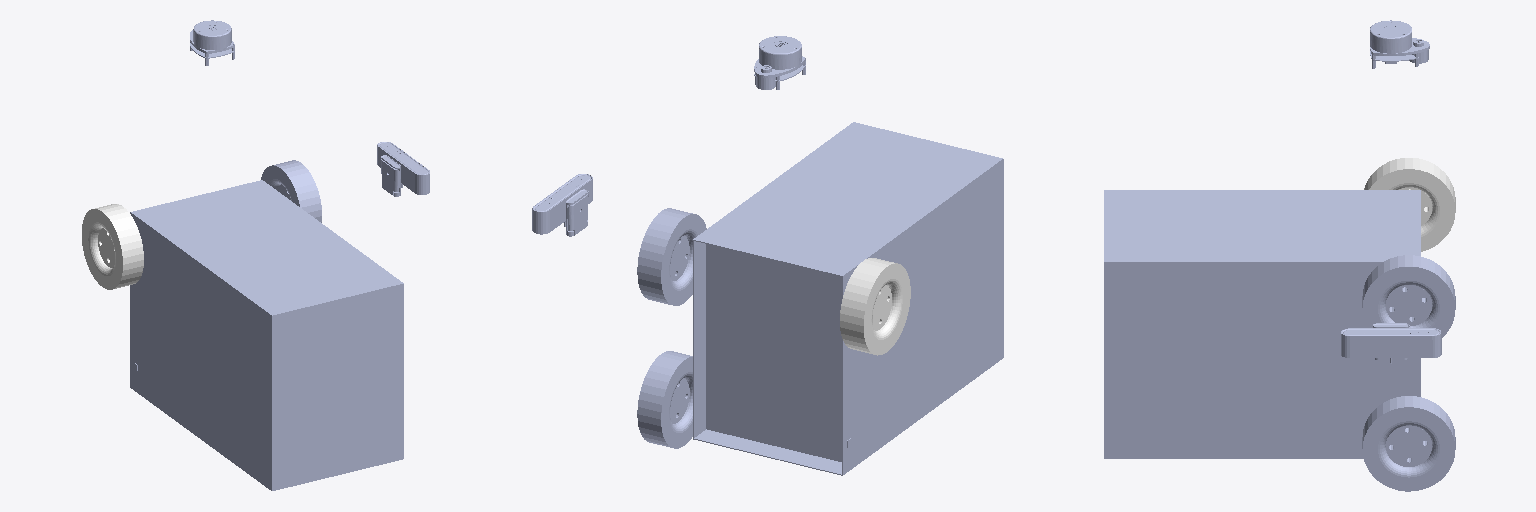
robot.urdf — my_urdf:
<?xml version="1.0" encoding="utf-8"?>
<!-- This URDF was automatically created by SolidWorks to URDF Exporter! Originally created by Stephen Brawner (brawner@gmail.com) 
     Commit Version: 1.6.0-4-g7f85cfe  Build Version: 1.6.7995.38578
     For more information, please see http://wiki.ros.org/sw_urdf_exporter -->
<robot
  name="my_urdf">
  <!-- Dummy link added to fix KDL inertia warning -->
  <link name="dummy_root">
    <inertial>
      <origin xyz="-0.000309087484210829 -0.231774623204699 0.00490440684986201" rpy="0 0 0" />
      <mass value="45.829187990473" />
      <inertia
        ixx="1.3247027895633"
        ixy="-0.00259104265884517"
        ixz="-0.00186845178508046"
        iyy="0.773725974976496"
        iyz="0.0411131993367175"
        izz="1.15594469557223" />
    </inertial>
  </link>

  <joint name="dummy_to_base" type="fixed">
    <parent link="dummy_root" />
    <child link="base_footprint" />
    <origin xyz="0 0 0" rpy="0 0 0" />
  </joint>
  <link
    name="base_footprint">
    <inertial>
      <origin
        xyz="-0.000309087484210829 -0.231774623204699 0.00490440684986201"
        rpy="0 0 0" />
      <mass
        value="45.829187990473" />
      <inertia
        ixx="1.3247027895633"
        ixy="-0.00259104265884517"
        ixz="-0.00186845178508046"
        iyy="0.773725974976496"
        iyz="0.0411131993367175"
        izz="1.15594469557223" />
    </inertial>
    <visual>

      <geometry>
        <mesh
          filename="package://my_urdf/meshes/base_footprint.STL" />
      </geometry>
      <material
        name="">
        <color
          rgba="0.792156862745098 0.819607843137255 0.933333333333333 1" />
      </material>
    </visual>
    <collision>
      <geometry>
        <mesh
          filename="package://my_urdf/meshes/base_footprint.STL" />
      </geometry>
    </collision>
  </link>
  <link
    name="front_right_link">
    <inertial>
      <origin
        xyz="-0.000233568800549525 0.00388215224949372 0.219535415875818"
        rpy="0 0 0" />
      <mass
        value="48.9383586991974" />
      <inertia
        ixx="1.56913843574981"
        ixy="-0.00154016843274957"
        ixz="0.00211023847469076"
        iyy="1.44343461593917"
        iyz="-0.0373053138883436"
        izz="0.925134371309634" />
    </inertial>
    <visual>

      <geometry>
        <mesh
          filename="package://my_urdf/meshes/back_right_link.STL" />
      </geometry>
      <material
        name="">
        <color
          rgba="1 1 1 1" />
      </material>
    </visual>
    <collision>
      <geometry>
        <mesh
          filename="package://my_urdf/meshes/back_right_link.STL" />
      </geometry>
    </collision>
  </link>
  <joint
    name="front_right_joint"
    type="revolute">
    <origin
      xyz="0 0 0"
      rpy="1.5707963267949 0 0" />
    <parent
      link="base_footprint" />
    <child
      link="front_right_link" />
    <axis
      xyz="-1 0 0" />
    <limit
      lower="0"
      upper="0"
      effort="0"
      velocity="0" />
  </joint>
  <link
    name="back_right_link">
    <inertial>
      <origin
        xyz="-0.188595 0.127041605346971 -0.0204638010416092"
        rpy="0 0 0" />
      <mass
        value="0.672106314046843" />
      <inertia
        ixx="0.0022358710882711"
        ixy="1.18669985448161E-20"
        ixz="4.77668952557858E-22"
        iyy="0.00121366878208572"
        iyz="1.72224751499544E-07"
        izz="0.0012137080517682" />
    </inertial>
    <visual>

      <geometry>
        <mesh
          filename="package://my_urdf/meshes/back_right_link.STL" />
      </geometry>
      <material
        name="">
        <color
          rgba="0.792156862745098 0.819607843137255 0.933333333333333 1" />
      </material>
    </visual>
    <collision>

      <geometry>
        <mesh
          filename="package://my_urdf/meshes/back_right_link.STL" />
      </geometry>
    </collision>
  </link>
  <joint
    name="back_right_joint"
    type="revolute">
    <origin
      xyz="0 0 0"
      rpy="1.5707963267949 0 0" />
    <parent
      link="base_footprint" />
    <child
      link="back_right_link" />
    <axis
      xyz="1 0 0" />
    <limit
      lower="0"
      upper="0"
      effort="0"
      velocity="0" />
  </joint>
  <link
    name="back_left_link">
    <inertial>
      <origin
        xyz="0.188595 0.126968611638409 -0.0203013899175233"
        rpy="0 0 0" />
      <mass
        value="0.672106314046843" />
      <inertia
        ixx="0.0022358710882711"
        ixy="-1.47749794835115E-20"
        ixz="-5.08498084480825E-21"
        iyy="0.001213728039212"
        iyz="-1.68751197173603E-07"
        izz="0.00121364879464192" />
    </inertial>
    <visual>

      <geometry>
        <mesh
          filename="package://my_urdf/meshes/back_left_link.STL" />
      </geometry>
      <material
        name="">
        <color
          rgba="0.792156862745098 0.819607843137255 0.933333333333333 1" />
      </material>
    </visual>
    <collision>

      <geometry>
        <mesh
          filename="package://my_urdf/meshes/back_left_link.STL" />
      </geometry>
    </collision>
  </link>
  <joint
    name="back_left_joint"
    type="revolute">
    <origin
      xyz="0 0 0"
      rpy="1.5707963267949 0 0" />
    <parent
      link="base_footprint" />
    <child
      link="back_left_link" />
    <axis
      xyz="1 0 0" />
    <limit
      lower="0"
      upper="0"
      effort="0"
      velocity="0" />
  </joint>
  <link
    name="front_left_link">
    <inertial>
      <origin
        xyz="0.188595 -0.127032541922988 -0.0202995473440542"
        rpy="0 0 0" />
      <mass
        value="0.672106314046843" />
      <inertia
        ixx="0.0022358710882711"
        ixy="-7.01375136593397E-22"
        ixz="-1.64781567191005E-20"
        iyy="0.00121367321204965"
        iyz="-1.72672243645025E-07"
        izz="0.00121370362180427" />
    </inertial>
    <visual>

      <geometry>
        <mesh
          filename="package://my_urdf/meshes/front_left_link.STL" />
      </geometry>
      <material
        name="">
        <color
          rgba="0.792156862745098 0.819607843137255 0.933333333333333 1" />
      </material>
    </visual>
    <collision>

      <geometry>
        <mesh
          filename="package://my_urdf/meshes/front_left_link.STL" />
      </geometry>
    </collision>
  </link>
  <joint
    name="front_left_joint"
    type="revolute">
    <origin
      xyz="0 0 0"
      rpy="1.5707963267949 0 0" />
    <parent
      link="base_footprint" />
    <child
      link="front_left_link" />
    <axis
      xyz="1 0 0" />
    <limit
      lower="0"
      upper="0"
      effort="0"
      velocity="0" />
  </joint>
  <link
    name="lidar_link">
    <inertial>
      <origin
        xyz="0.00548449682867642 -0.00227401415844783 0.513423127732833"
        rpy="0 0 0" />
      <mass
        value="0.170611427740059" />
      <inertia
        ixx="0.000123166325080503"
        ixy="1.02818502430435E-07"
        ixz="3.96362803317277E-07"
        iyy="7.88356333895355E-05"
        iyz="2.02875674243666E-05"
        izz="0.00014078871798285" />
    </inertial>
    <visual>

      <geometry>
        <mesh
          filename="package://my_urdf/meshes/base_laser.STL" />
      </geometry>
      <material
        name="">
        <color
          rgba="0.792156862745098 0.819607843137255 0.933333333333333 1" />
      </material>
    </visual>
    <collision>

      <geometry>
        <mesh
          filename="package://my_urdf/meshes/base_laser.STL" />
      </geometry>
    </collision>
  </link>
  <joint
    name="baser_laser_joint"
    type="fixed">
    <origin
      xyz="0 0 0"
      rpy="0 0 0" />
    <parent
      link="base_footprint" />
    <child
      link="lidar_link" />
    <axis
      xyz="0 0 0" />
  </joint>
  <link
    name="camera_link">
    <inertial>
      <origin
        xyz="0.00816075461061211 -0.156095902491559 0.405890121378547"
        rpy="0 0 0" />
      <mass
        value="0.220449863399617" />
      <inertia
        ixx="4.67299149630673E-05"
        ixy="-4.59364629457927E-08"
        ixz="5.50364242676411E-09"
        iyy="0.000406106730886343"
        iyz="-1.59318277923789E-07"
        izz="0.000425232439456108" />
    </inertial>
    <visual>

      <geometry>
        <mesh
          filename="package://my_urdf/meshes/base_camera.STL" />
      </geometry>
      <material
        name="">
        <color
          rgba="0.792156862745098 0.819607843137255 0.933333333333333 1" />
      </material>
    </visual>
    <collision>

      <geometry>
        <mesh
          filename="package://my_urdf/meshes/base_camera.STL" />
      </geometry>
    </collision>
  </link>
  <joint
    name="camera_link_joint"
    type="fixed">
    <origin
      xyz="0 0 0"
      rpy="1.5707963267949 3.14 1.57" />
    <parent
      link="base_footprint" />
    <child
      link="camera_link" />
    <axis
      xyz="0 0 0" />
  </joint>
</robot>

--- What the picture shows (computed from the rendered views, not written in the file) ---
The picture shows the robot from 3 angles, left to right: view 1: azimuth 30°, elevation 25°; view 2: azimuth 150°, elevation 25°; view 3: azimuth 270°, elevation 25°; orthographic projection.
Model my_urdf with 8 links and 7 joints (4 revolute, 3 fixed), rooted at dummy_root, posed every joint at zero.
Visible links, largest first — view 1: base_footprint, front_right_link, camera_link, back_left_link, lidar_link; view 2: base_footprint, front_right_link, back_left_link, front_left_link, camera_link, lidar_link; view 3: base_footprint, front_left_link, back_left_link, front_right_link, camera_link, lidar_link.
Boxes of the visible links, x1,y1,x2,y2 form: base_footprint: (130, 180, 403, 490); front_right_link: (82, 204, 143, 289); camera_link: (377, 142, 429, 196); back_left_link: (261, 160, 321, 222); lidar_link: (190, 20, 234, 65); base_footprint: (693, 122, 1003, 475); front_right_link: (840, 258, 910, 355); back_left_link: (637, 208, 706, 305); front_left_link: (637, 351, 692, 448); camera_link: (532, 174, 592, 236); lidar_link: (754, 36, 805, 89); base_footprint: (1104, 190, 1420, 458); front_left_link: (1362, 396, 1455, 491); back_left_link: (1362, 255, 1455, 337); front_right_link: (1364, 158, 1455, 251); camera_link: (1341, 323, 1441, 363); lidar_link: (1370, 20, 1429, 68).
Bounding box of the posed robot: 0.6365 × 0.5748 × 0.7388 m (x, y, z).
Meshes: 6 distinct files referenced, 7 mesh visuals loaded (6 binary STL).
